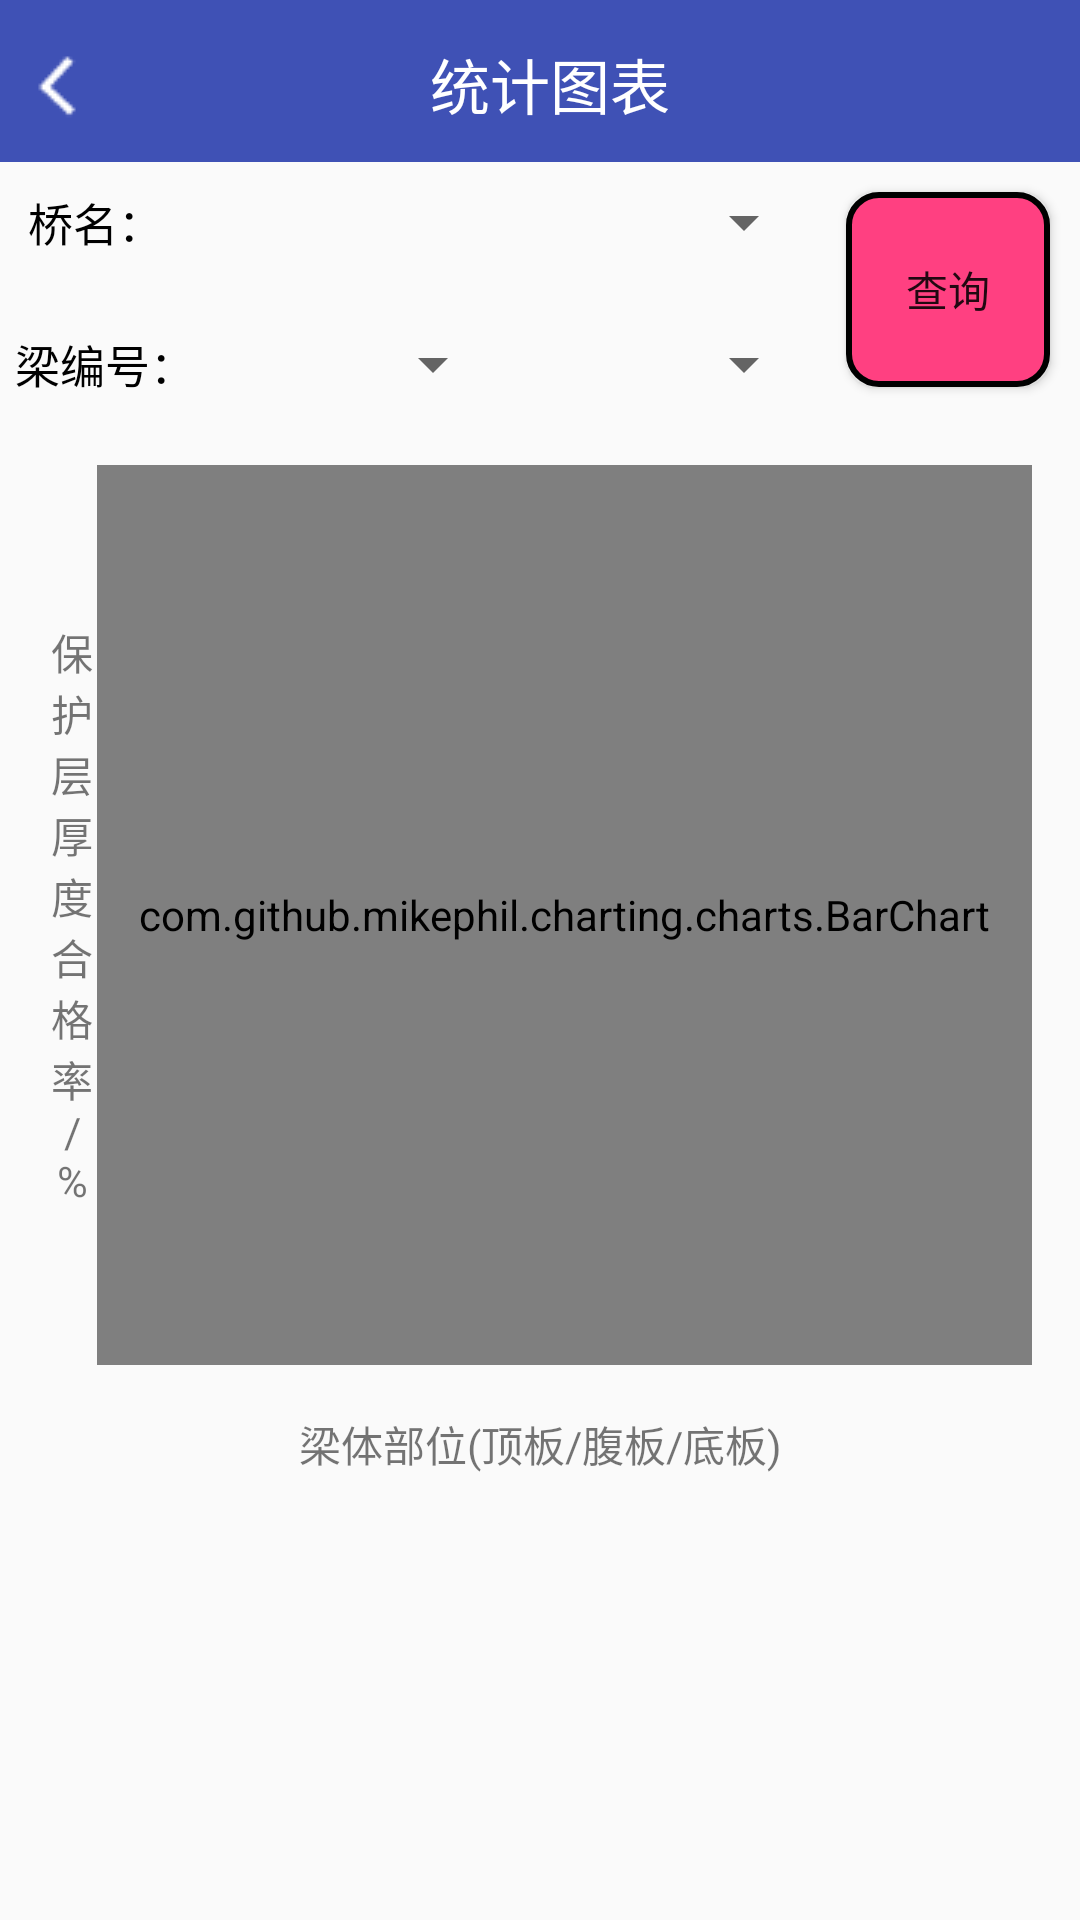

Screen size 1080 × 1920. Icon name, then its box in pixels as (x1, y1, x2, y2):
back: (39, 56, 76, 115)
